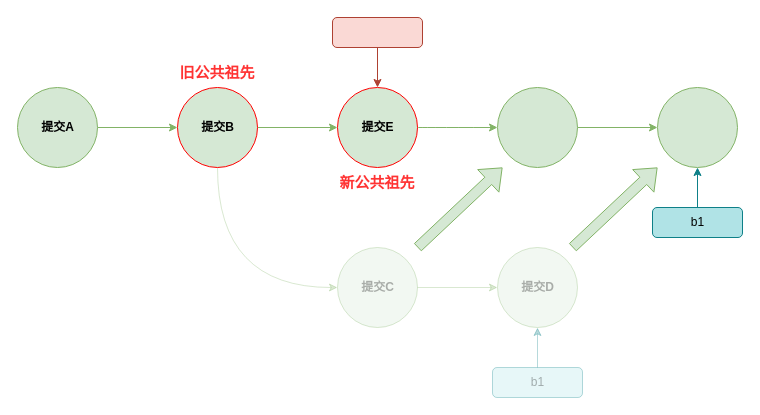
Image size: 760x415. Some labels were removed from this diagram. The centre of each missing label's shape, as x and y in pixels:
main: (x=377, y=32)
提交C': (x=537, y=127)
提交D': (x=697, y=127)
